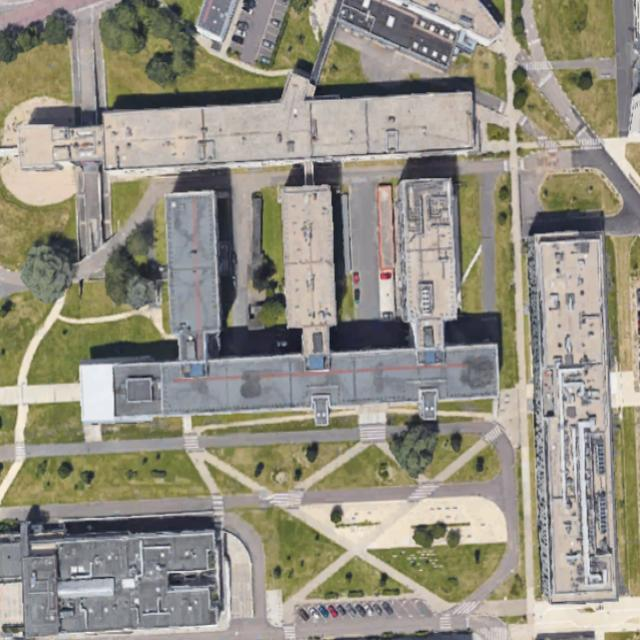immeuble: (94, 63, 477, 173), (79, 335, 500, 422), (526, 231, 619, 609), (398, 179, 458, 351), (164, 190, 221, 360), (281, 185, 337, 357)
